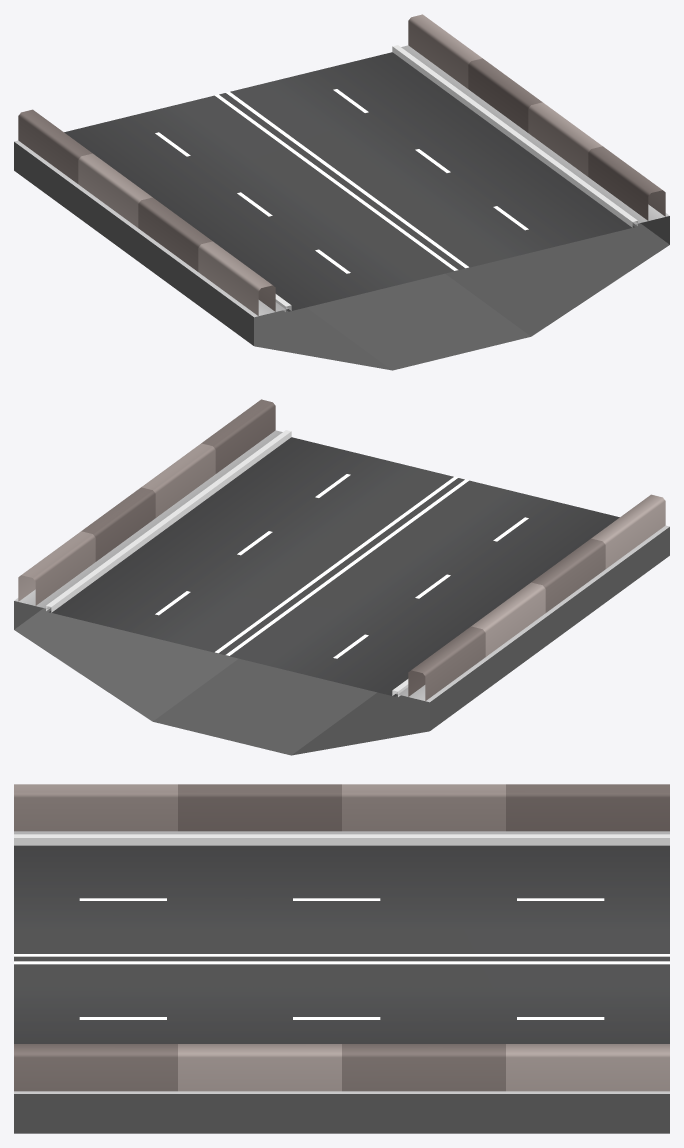
Rendered from road_006.glb.
3 renders of one model, top to bottom at view 1: azimuth 30°, elevation 25°; view 2: azimuth 150°, elevation 25°; view 3: azimuth 270°, elevation 25°, orthographic. The views are drawn at different scales.
Parts seen in each view (by area): view 1: road_006; view 2: road_006; view 3: road_006.
Boxes of the visible parts, x1,y1,x2,y2 form: road_006: (14, 14, 669, 370); road_006: (14, 399, 669, 755); road_006: (14, 784, 669, 1133).
Bounding box in the file's own units: 15 × 3.94 × 15.
1 material, 1 textured.
